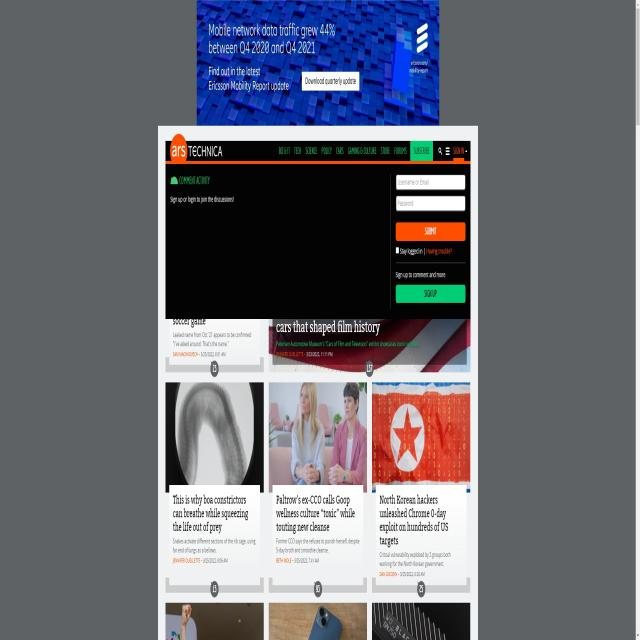menu-bar: (267, 137, 438, 161)
